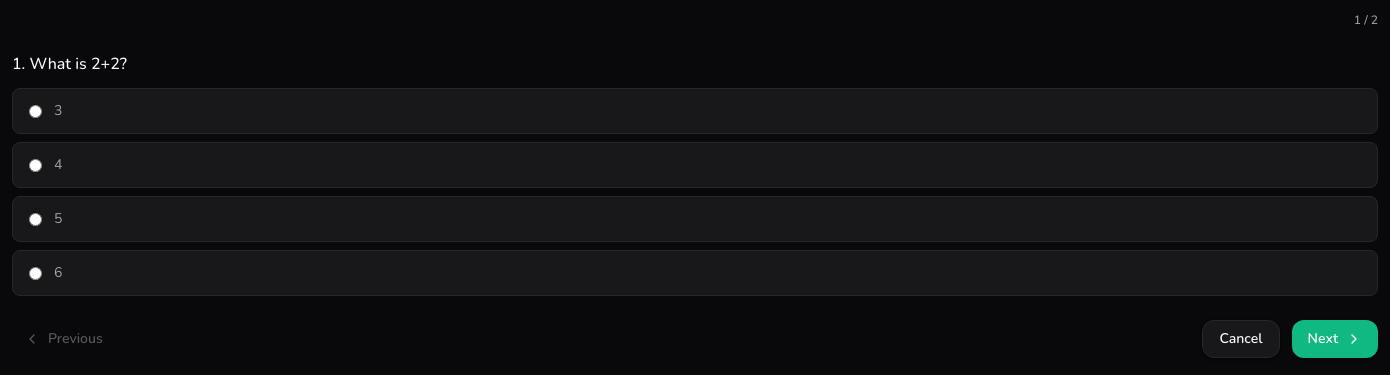
Scenario: AssessmentTaker › navigates to next question when Next is clicked
Click the button "Next" at (1335, 339), box [1292, 320, 1378, 358]
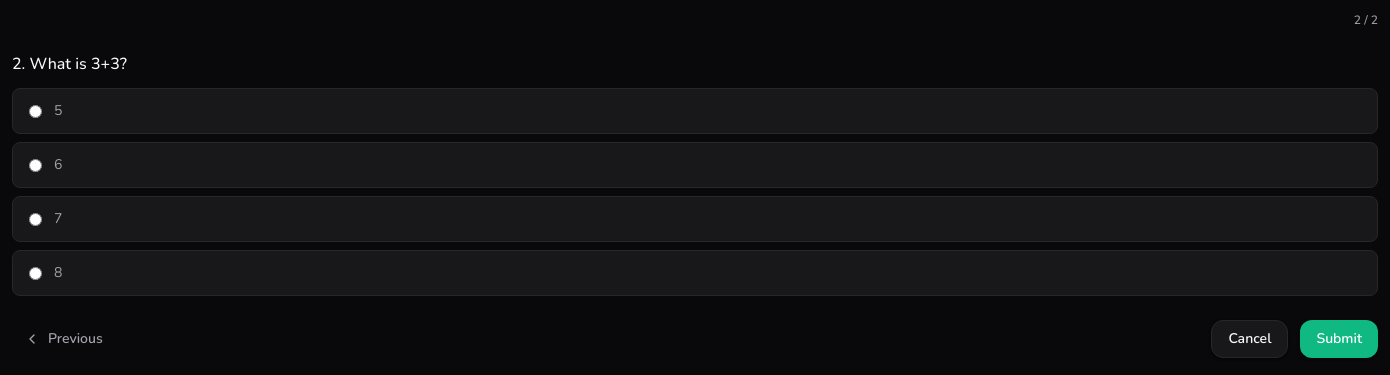
Check: the text "2. What is 3+3?" is shown, box [12, 53, 127, 75]
